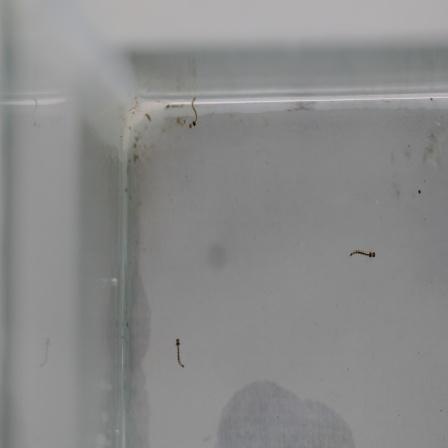Jentik-Nyamuk: (184, 94, 202, 133), (346, 243, 378, 263), (170, 335, 186, 373)
